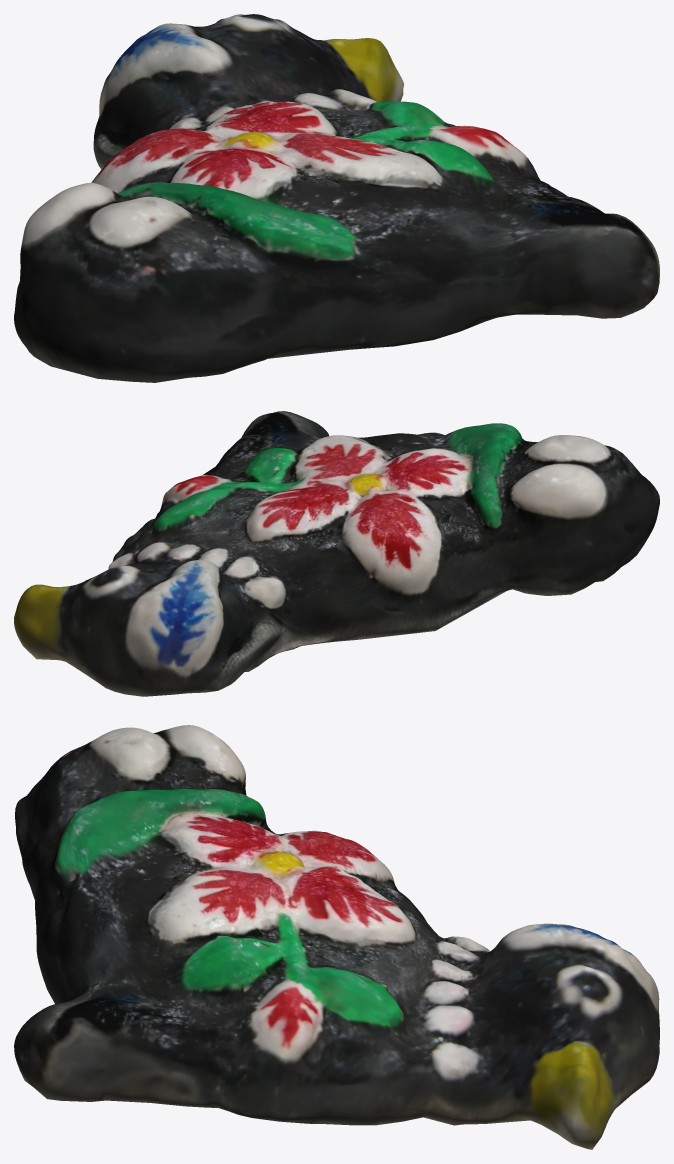
3 views of the same model, one above another, from view 1: azimuth 30°, elevation 25°; view 2: azimuth 150°, elevation 25°; view 3: azimuth 270°, elevation 25° (orthographic). The views are drawn at different scales.
Bounding box in the file's own units: 0.577 × 0.2052 × 0.586.
1 material, 1 textured.
